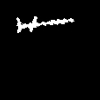double_crochet: (17, 17, 72, 32)
